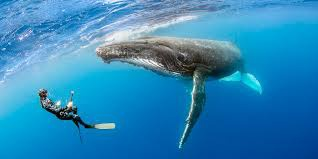humpback: (95, 41, 249, 82)
